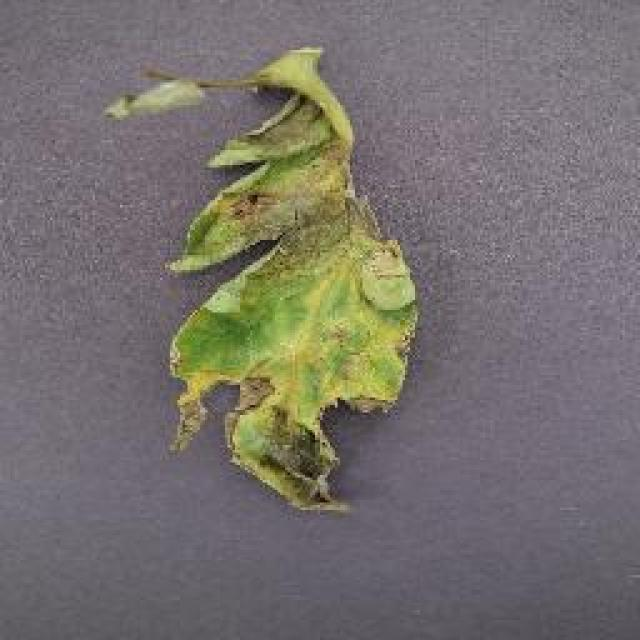Tomato___Late_blight: (105, 48, 420, 512)
